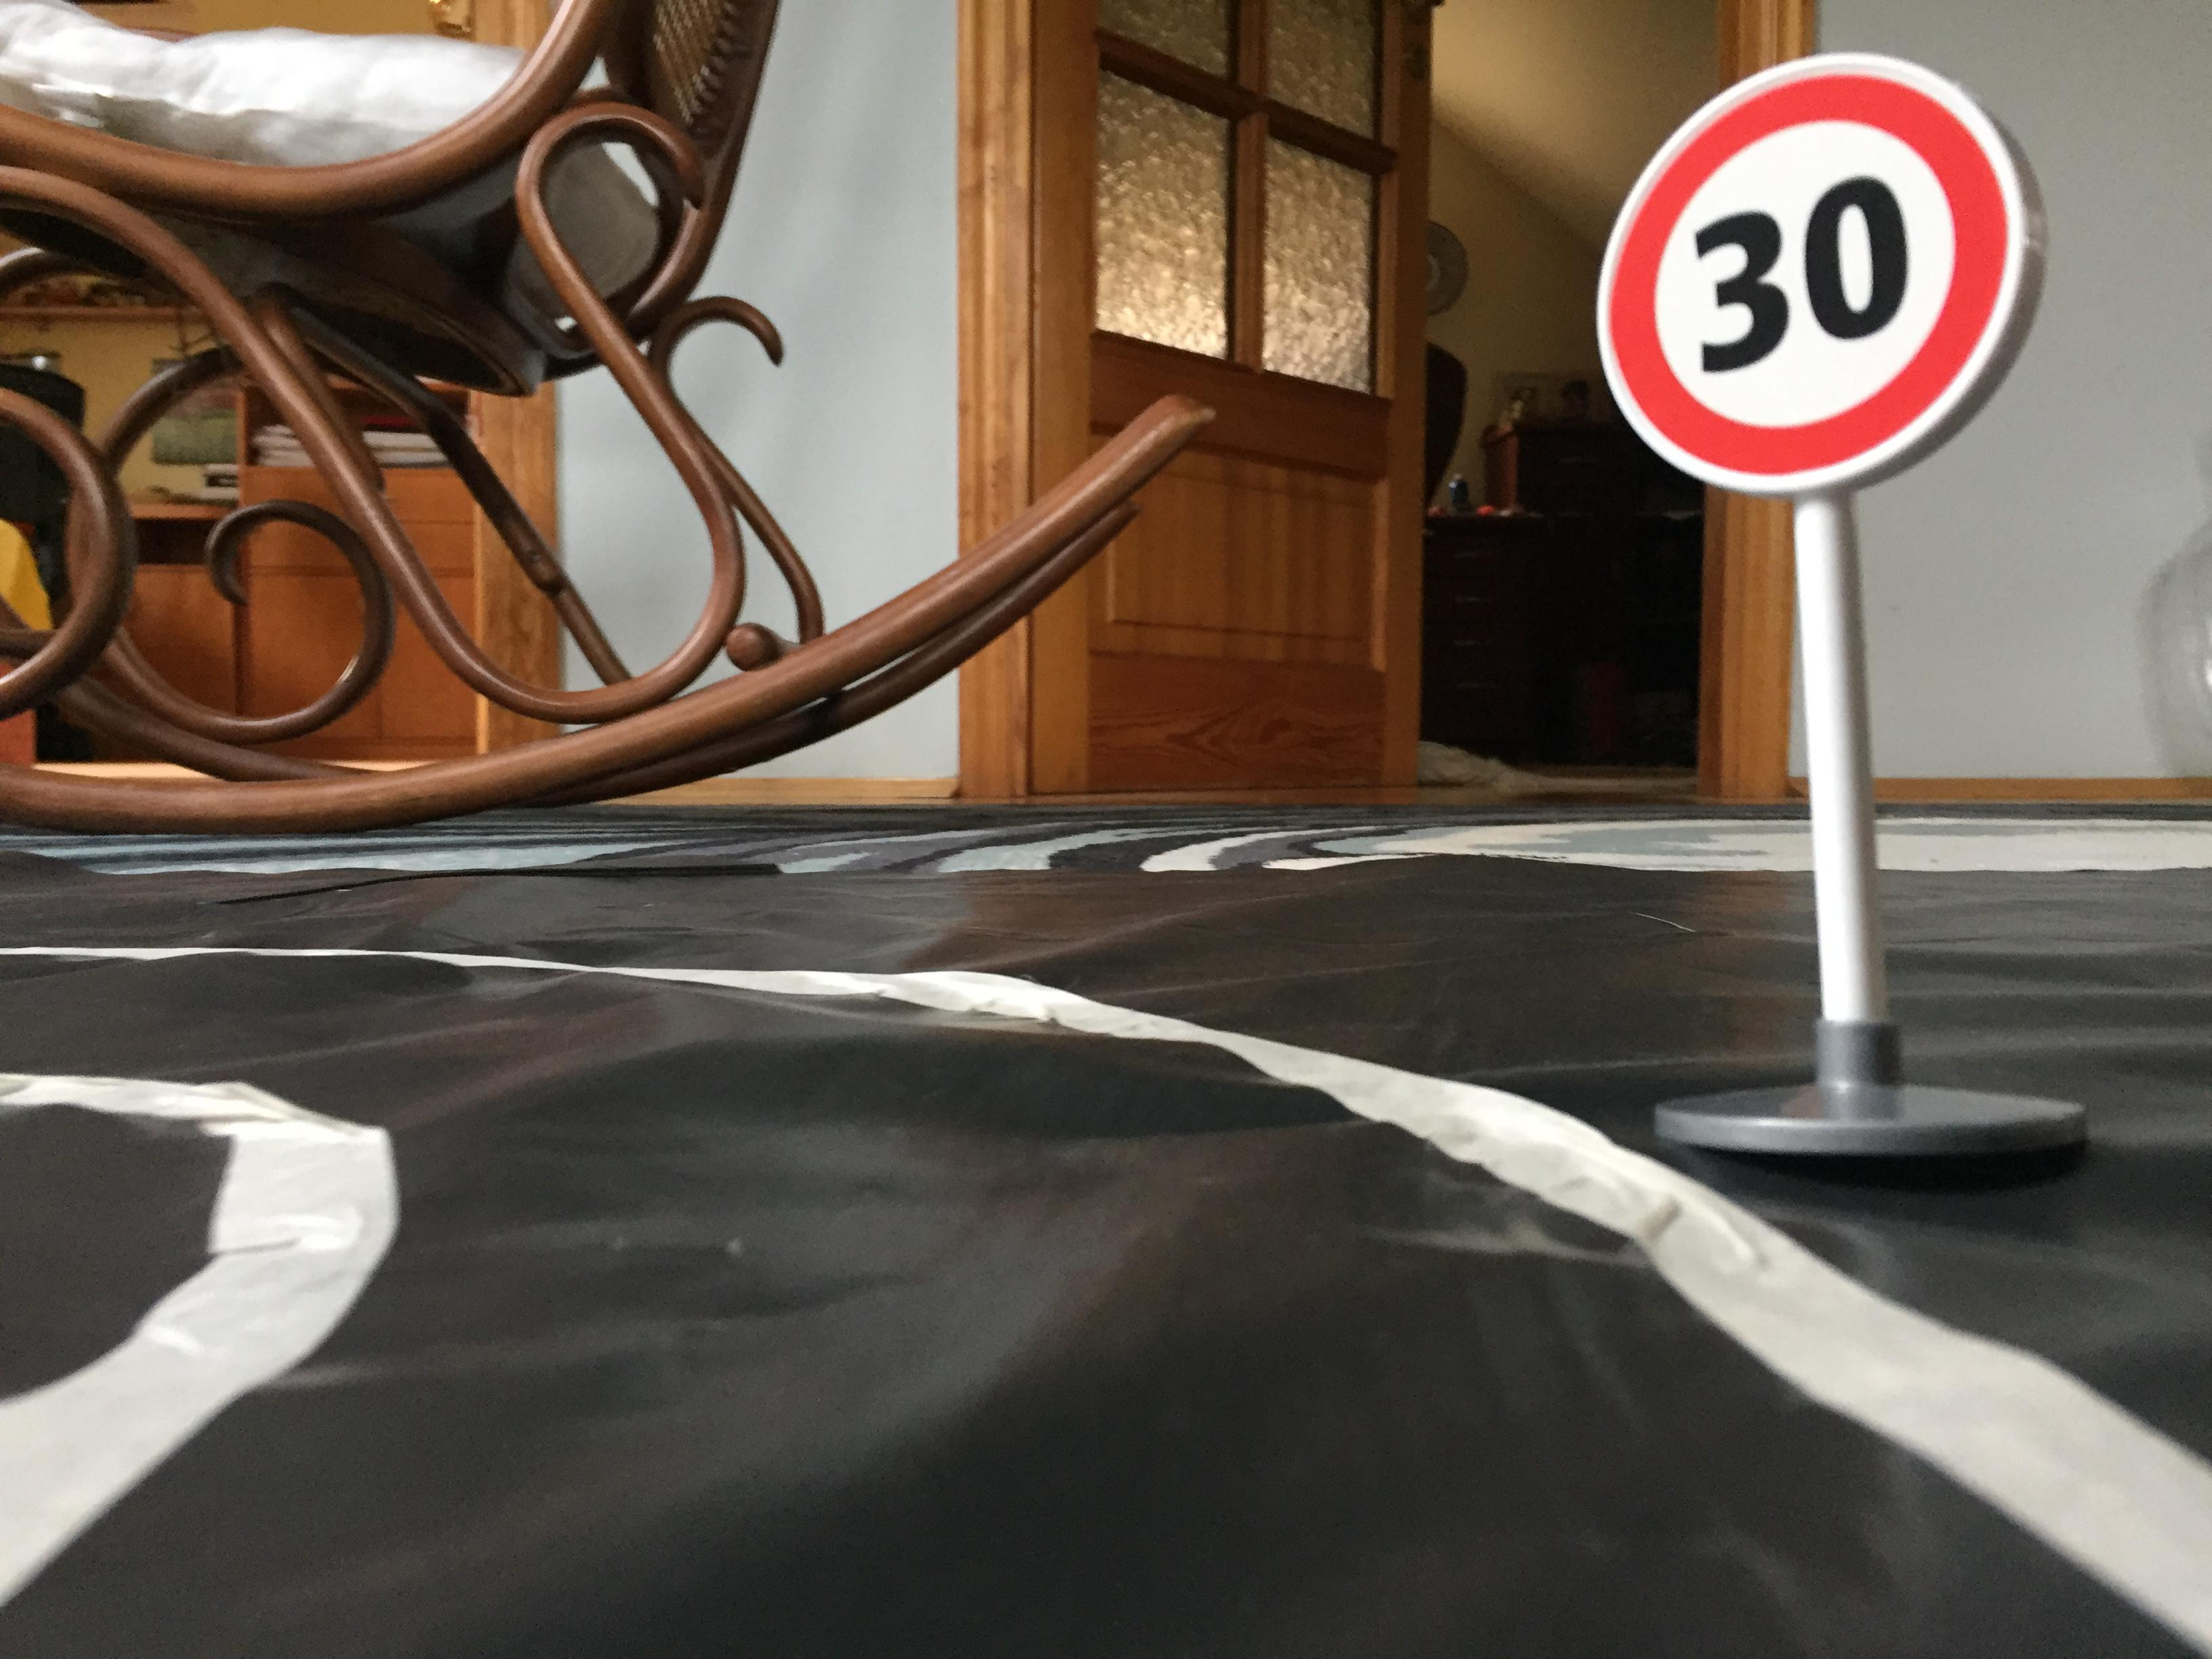speed: (1585, 44, 2060, 518)
